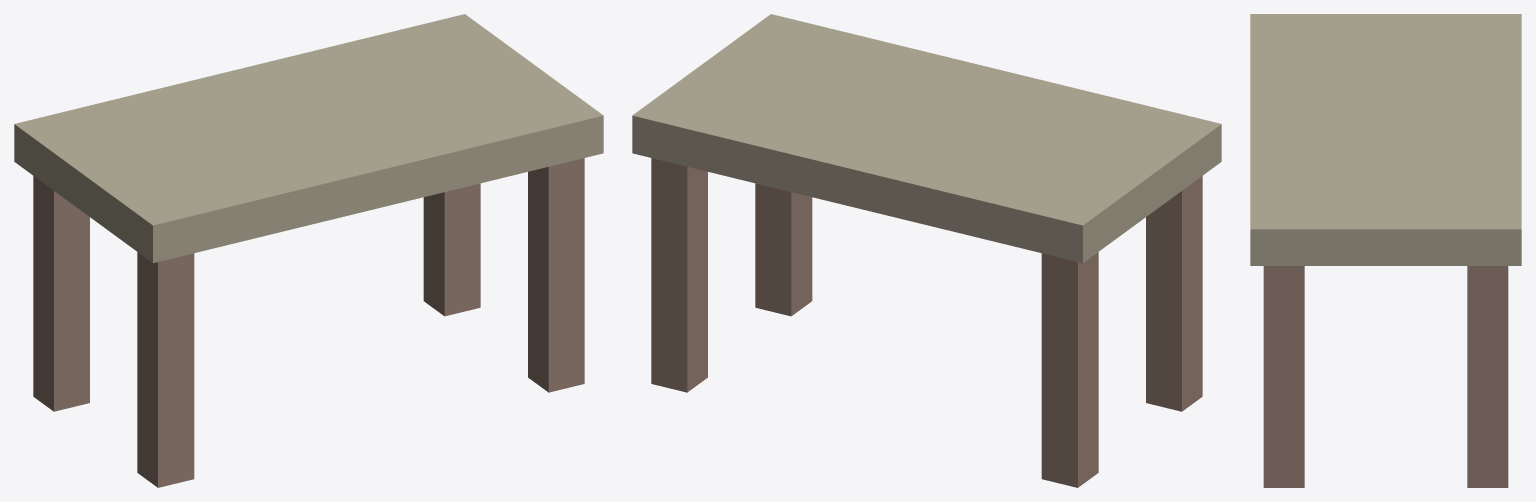
File: furn_workbench.glb
The picture shows the model from 3 angles, left to right: view 1: azimuth 30°, elevation 25°; view 2: azimuth 150°, elevation 25°; view 3: azimuth 270°, elevation 25°; orthographic projection. The views are drawn at different scales.
Parts seen in each view (by area): view 1: furn_workbench; view 2: furn_workbench; view 3: furn_workbench.
Part boxes in pixels (x1,y1,x2,y2): furn_workbench: (14,14,603,487); furn_workbench: (632,14,1221,487); furn_workbench: (1250,14,1521,487).
Size of the model in its own units: 1.5 by 0.86 by 0.8.
